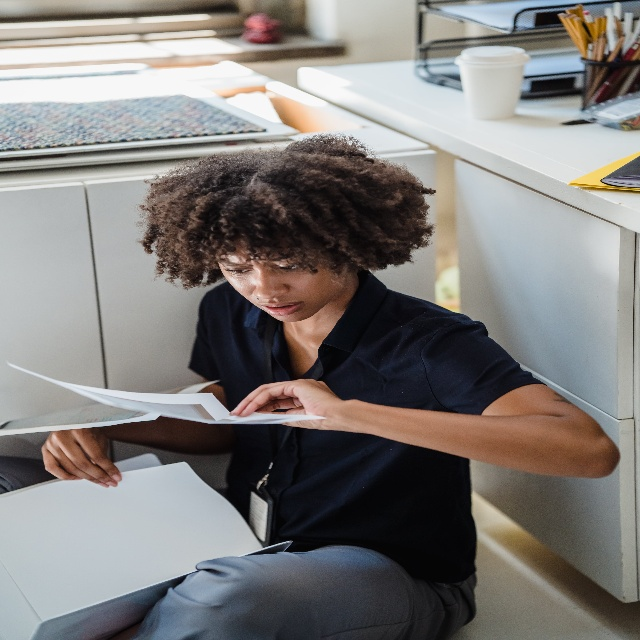Sin_guantes: (229, 376, 341, 430), (41, 428, 122, 488)
